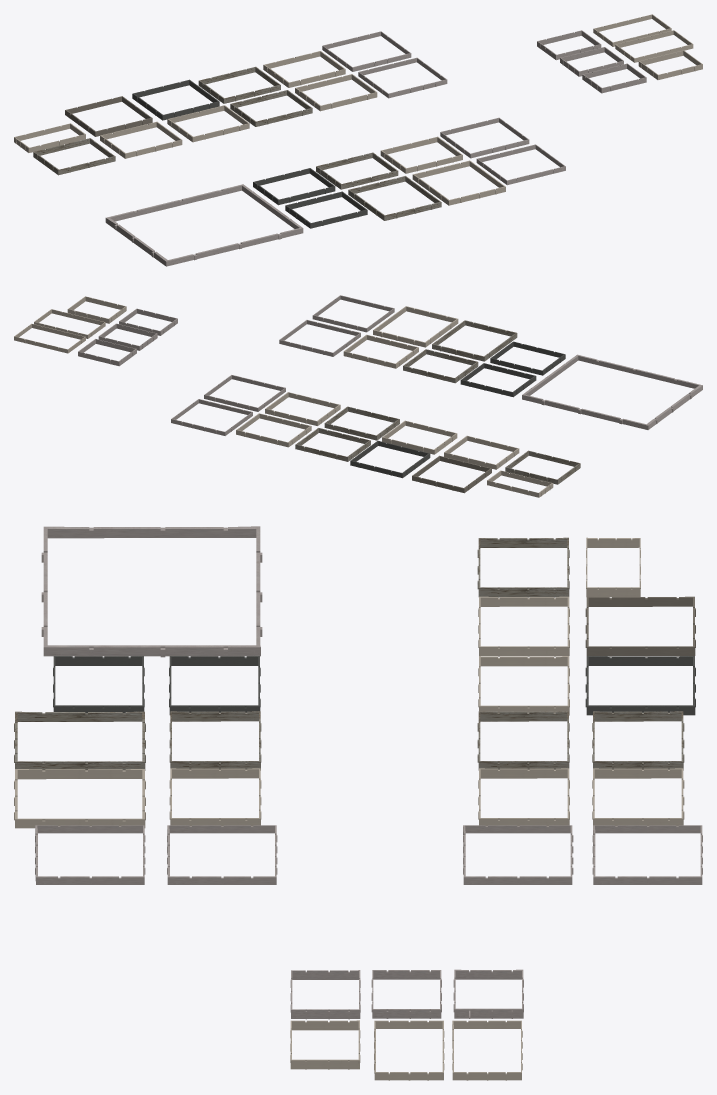
File: TEXTURED HOUSE WALLS.fbx
The picture shows the model from 3 angles, top to bottom: view 1: azimuth 30°, elevation 25°; view 2: azimuth 150°, elevation 25°; view 3: azimuth 270°, elevation 25°; orthographic projection. The views are drawn at different scales.
Parts seen in each view (by area): view 1: HOUSE_6__3_, HOUSE_10__3_, HOUSE_10__2_, HOUSE_4, House_5, HOUSE_24, HOUSE_8, HOUSE_18, HOUSE_6__2_, HOUSE_14, HOUSE_16, HOUSE_6__1_ (+15 smaller); view 2: HOUSE_6__3_, HOUSE_10__3_, HOUSE_10__2_, House_5, HOUSE_4, HOUSE_6__1_, HOUSE_6__2_, HOUSE_9, HOUSE_25, HOUSE_8, HOUSE_14, HOUSE_15 (+15 smaller); view 3: HOUSE_6__3_, HOUSE_10__3_, HOUSE_10__2_, HOUSE_4, HOUSE_21, HOUSE_22, HOUSE_23, House_5, HOUSE_19, HOUSE_18, HOUSE_17, HOUSE_15 (+15 smaller).
Boxes of the visible parts, x1,y1,x2,y2 form: HOUSE_6__3_: [105, 184, 303, 266]; HOUSE_10__3_: [348, 176, 441, 220]; HOUSE_10__2_: [412, 160, 505, 205]; HOUSE_4: [65, 96, 152, 136]; House_5: [132, 79, 219, 120]; HOUSE_24: [380, 136, 462, 173]; HOUSE_8: [198, 66, 280, 103]; HOUSE_18: [33, 138, 115, 175]; HOUSE_6__2_: [285, 191, 367, 228]; HOUSE_14: [295, 74, 377, 111]; HOUSE_16: [167, 105, 249, 142]; HOUSE_6__1_: [253, 168, 335, 205]; HOUSE_6__3_: [522, 354, 702, 429]; HOUSE_10__3_: [432, 320, 517, 361]; HOUSE_10__2_: [373, 306, 458, 347]; House_5: [350, 440, 430, 478]; HOUSE_4: [412, 455, 491, 493]; HOUSE_6__1_: [460, 363, 536, 397]; HOUSE_6__2_: [490, 341, 565, 375]; HOUSE_9: [236, 413, 311, 447]; HOUSE_25: [403, 349, 478, 383]; HOUSE_8: [295, 428, 370, 461]; HOUSE_14: [265, 392, 340, 425]; HOUSE_15: [324, 406, 399, 440]; HOUSE_6__3_: [43, 526, 260, 656]; HOUSE_10__3_: [15, 711, 145, 770]; HOUSE_10__2_: [15, 769, 145, 828]; HOUSE_4: [586, 596, 695, 655]; HOUSE_21: [463, 825, 572, 884]; HOUSE_22: [167, 825, 276, 884]; HOUSE_23: [35, 825, 144, 884]; House_5: [586, 656, 695, 715]; HOUSE_19: [593, 825, 702, 884]; HOUSE_18: [478, 537, 569, 596]; HOUSE_17: [479, 596, 569, 655]; HOUSE_15: [478, 711, 569, 770].
Size of the model in its own units: 363 by 3.15 by 194.
5 materials, 5 textured.
